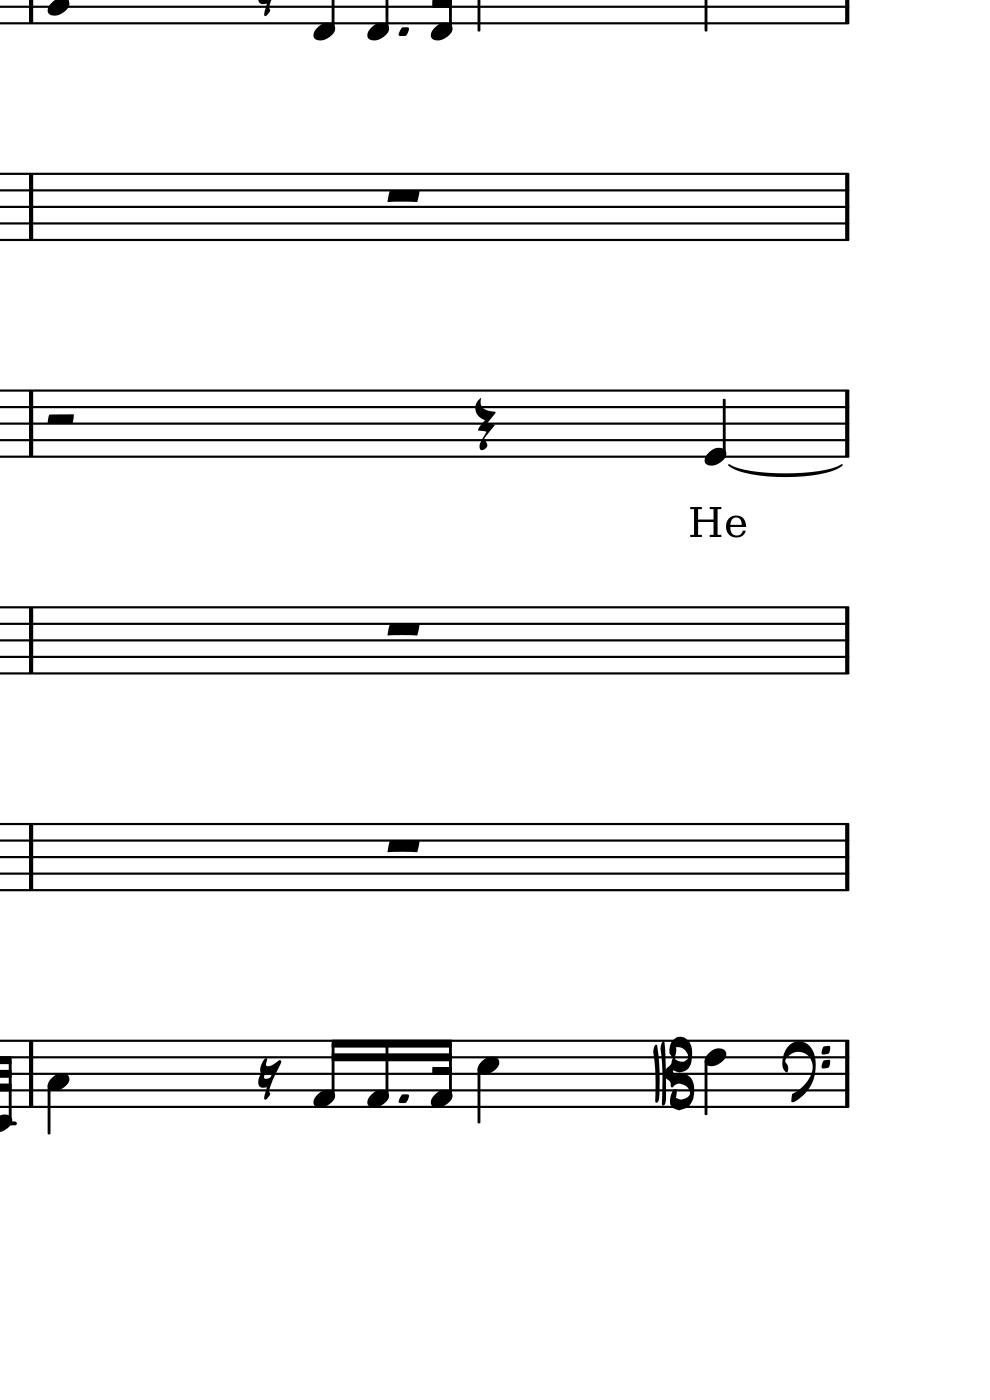16_1: (309, 1039, 345, 1111), (366, 1037, 392, 1111)
32_1: (427, 1036, 455, 1110)
4_0: (705, 388, 730, 473)
4_3: (45, 1038, 71, 1136)
4_5: (475, 1038, 502, 1125)
4_6: (703, 1039, 730, 1117)
Cclef: (648, 1037, 697, 1113)
Fclef: (782, 1036, 832, 1109)
Rests1: (382, 609, 432, 639), (382, 836, 429, 858), (382, 184, 424, 208)
Rests16: (258, 1057, 283, 1100)
Rests2: (42, 406, 80, 432)
Rests4: (471, 397, 500, 454)
Single_barline: (834, 174, 857, 241), (834, 823, 856, 890), (834, 607, 856, 674), (835, 390, 856, 458), (19, 174, 41, 241), (19, 824, 41, 890), (21, 390, 41, 457), (20, 608, 40, 674), (21, 1040, 40, 1108), (837, 1041, 855, 1107)
Slur: (727, 463, 843, 478)
